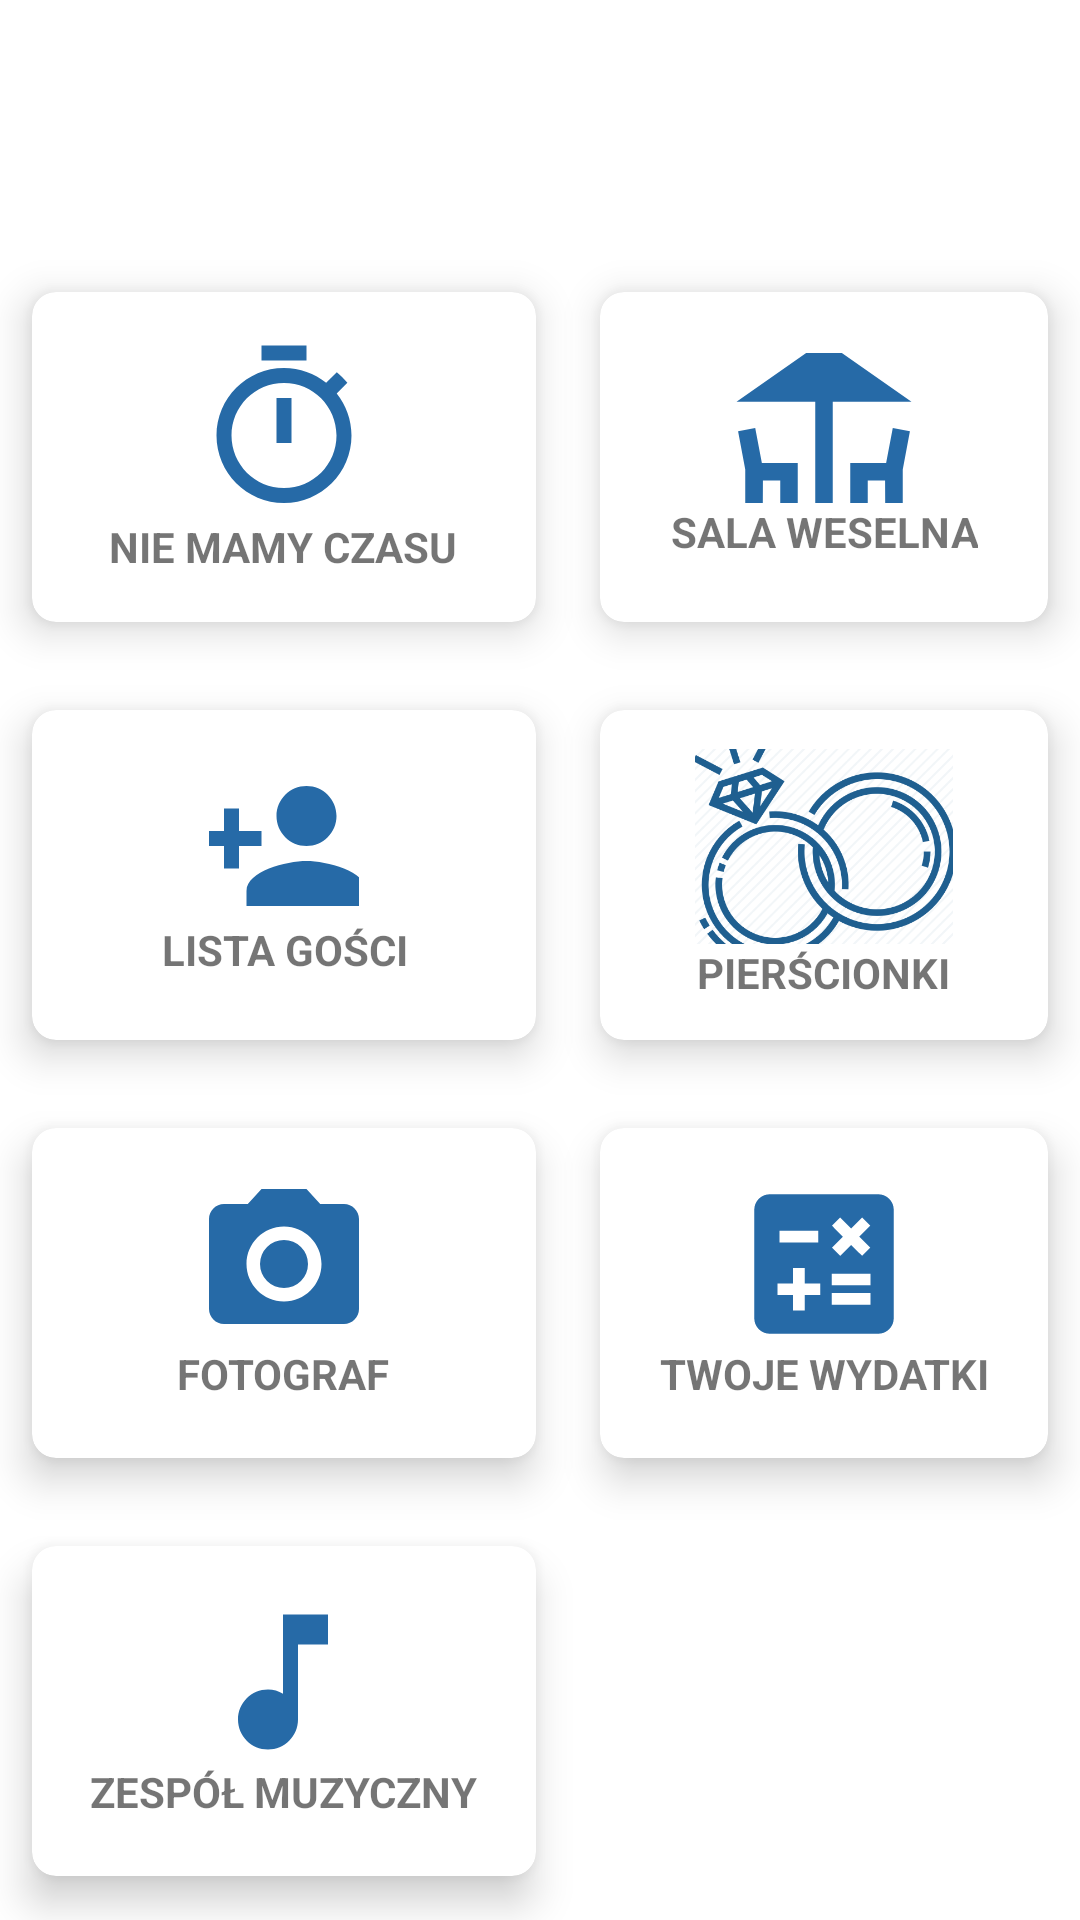

Icons on this 1080×1920 Android screen, each with the point to tap as (x=x, y=y):
calculate: (x=824, y=1264)
camera: (x=284, y=1256)
deck: (x=824, y=428)
music note: (x=283, y=1682)
person add: (x=284, y=846)
timer: (x=284, y=424)
